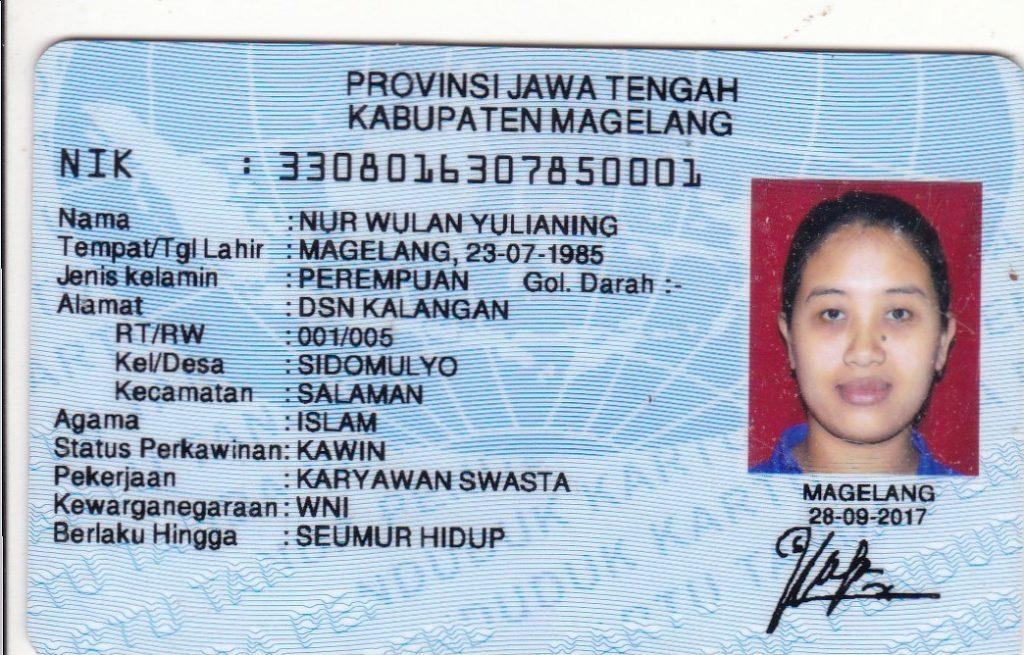ID-card: (33, 40, 1022, 654)
